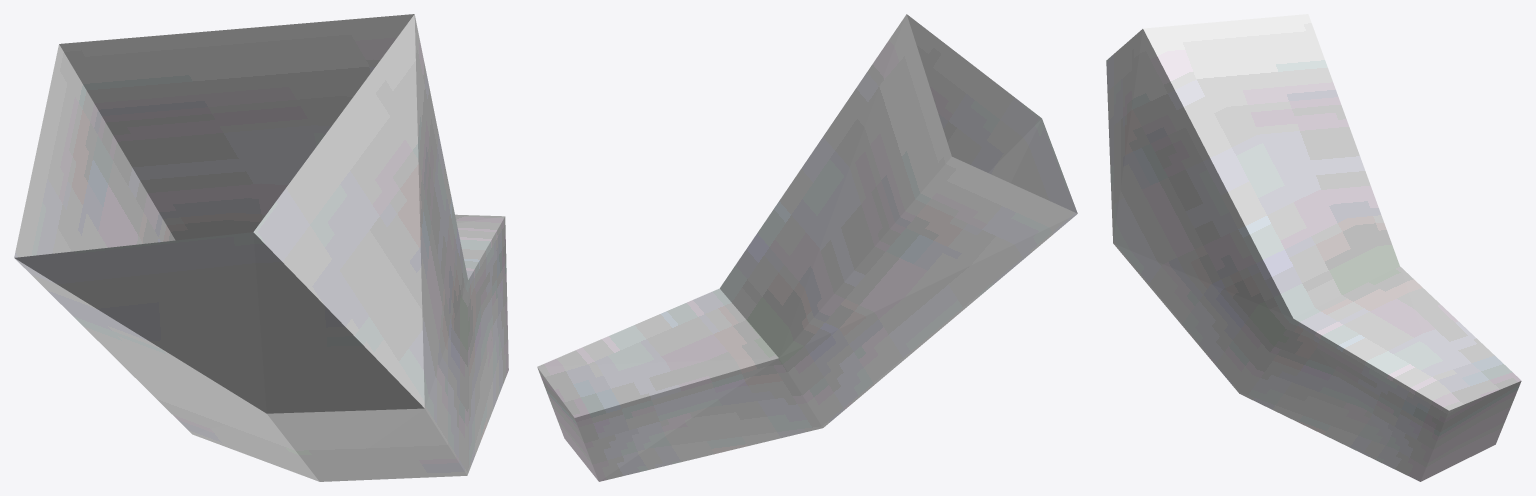
3 renders of one model, left to right at view 1: azimuth 30°, elevation 25°; view 2: azimuth 150°, elevation 25°; view 3: azimuth 270°, elevation 25°, orthographic. The views are drawn at different scales.
Visible parts, largest first — view 1: mesh_935BB648CC2BA568; view 2: mesh_935BB648CC2BA568; view 3: mesh_935BB648CC2BA568.
Part boxes in pixels (box(x1,y1,x2,y2)): mesh_935BB648CC2BA568: box(14, 14, 508, 481); mesh_935BB648CC2BA568: box(537, 14, 1077, 481); mesh_935BB648CC2BA568: box(1106, 14, 1521, 481).
Bounding box in the file's own units: 1.12 × 0.938 × 0.9846.
